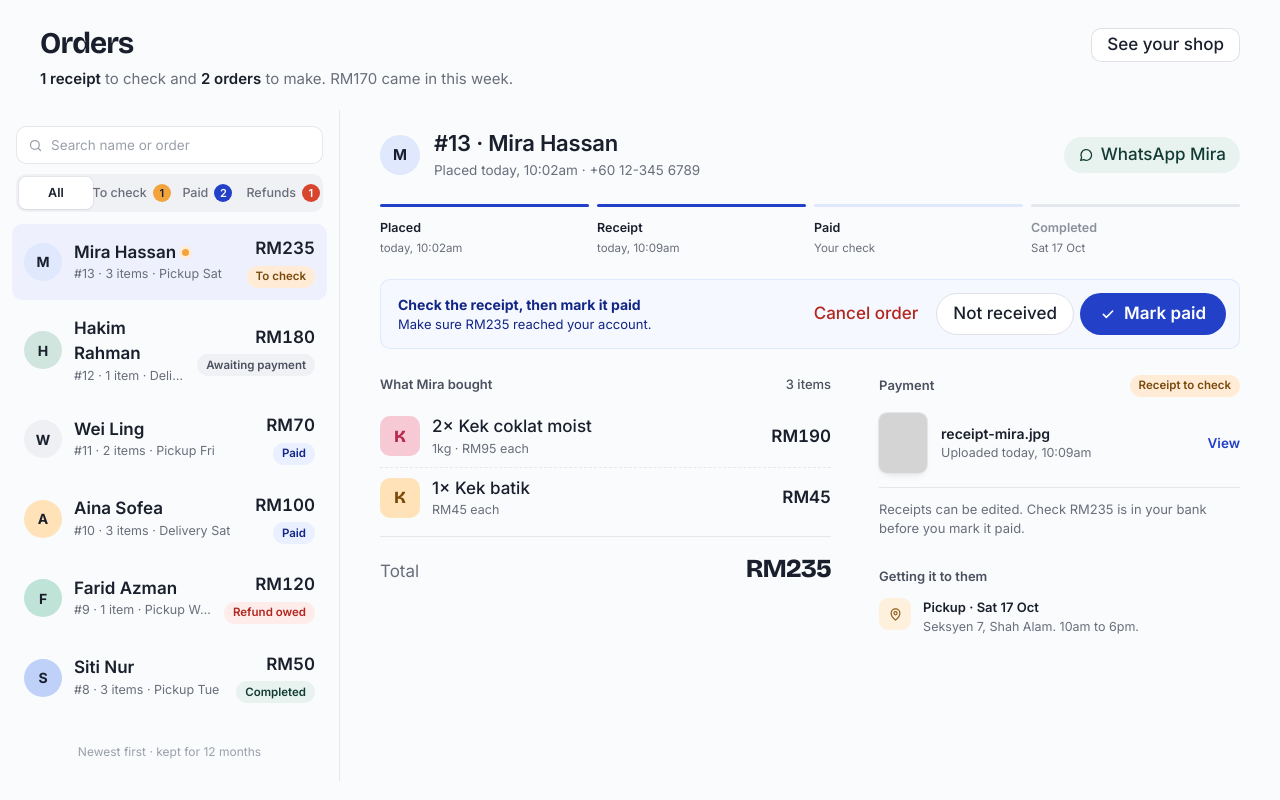
Test: OrdersScreen, the list › opens the newest first, and the one chosen
The image size is (1280, 800).
Expected: the heading "#13 · Mira Hassan" is shown, [434,130,618,156]
Click the button "W Wei Ling #11 · 2 items · Pickup Fri RM70 Paid". click: point(43, 439)
box: [12,401,327,477]
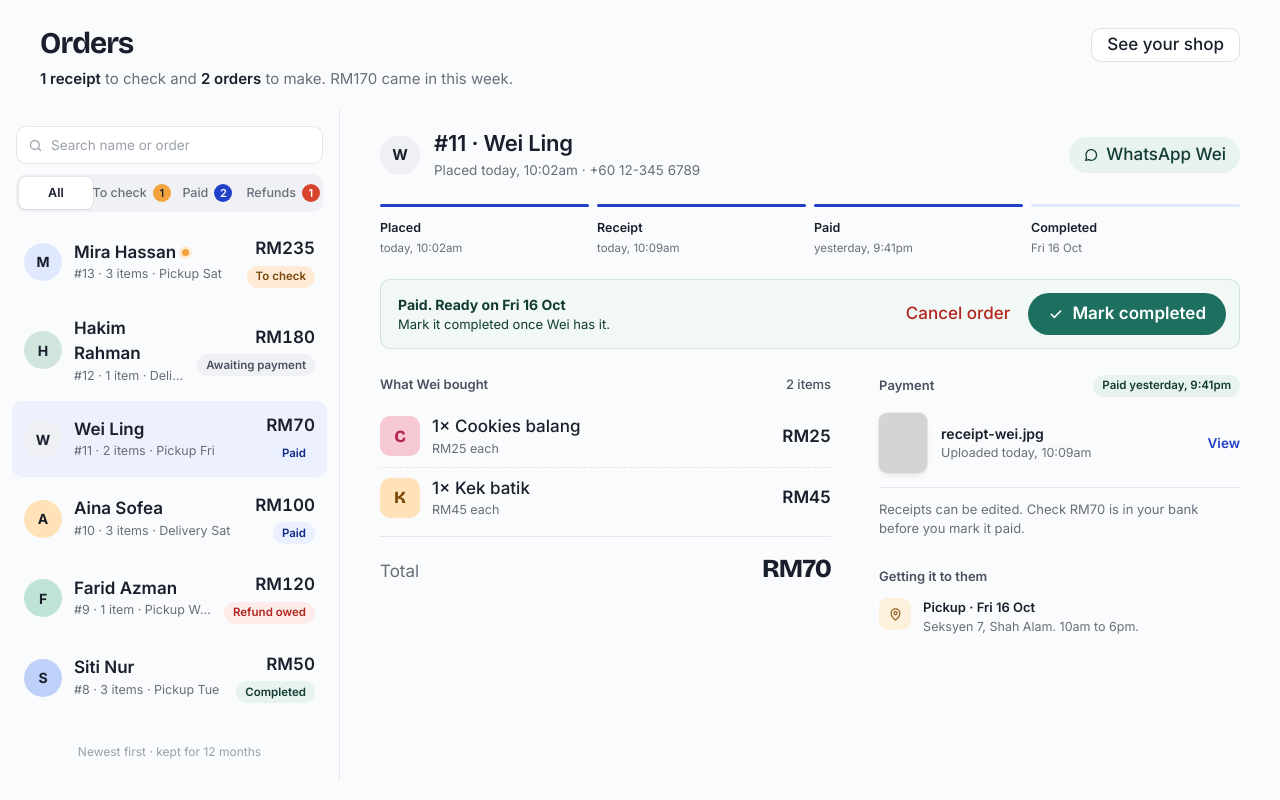
Result: the heading "#11 · Wei Ling" is shown at [434,130,573,156]
